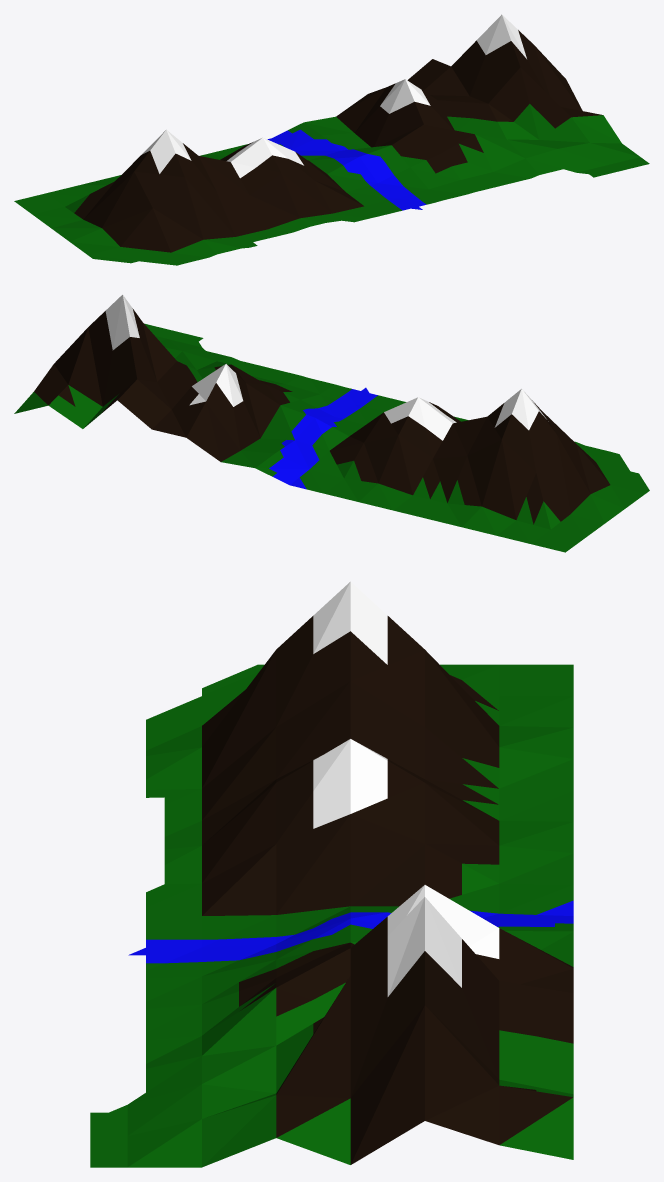
Rendered from updated_mountain.obj.
3 views of the same model, one above another, from view 1: azimuth 30°, elevation 25°; view 2: azimuth 150°, elevation 25°; view 3: azimuth 270°, elevation 25° (orthographic). The views are drawn at different scales.
Visible parts, largest first — view 1: Plane_Plane.001; view 2: Plane_Plane.001; view 3: Plane_Plane.001.
Boxes of the visible parts, x1=… form: Plane_Plane.001: x1=14, y1=14, x2=649, y2=265; Plane_Plane.001: x1=14, y1=294, x2=649, y2=552; Plane_Plane.001: x1=90, y1=581, x2=573, y2=1167.
Size of the model in its own units: 21.18 by 4.09 by 8.6.
